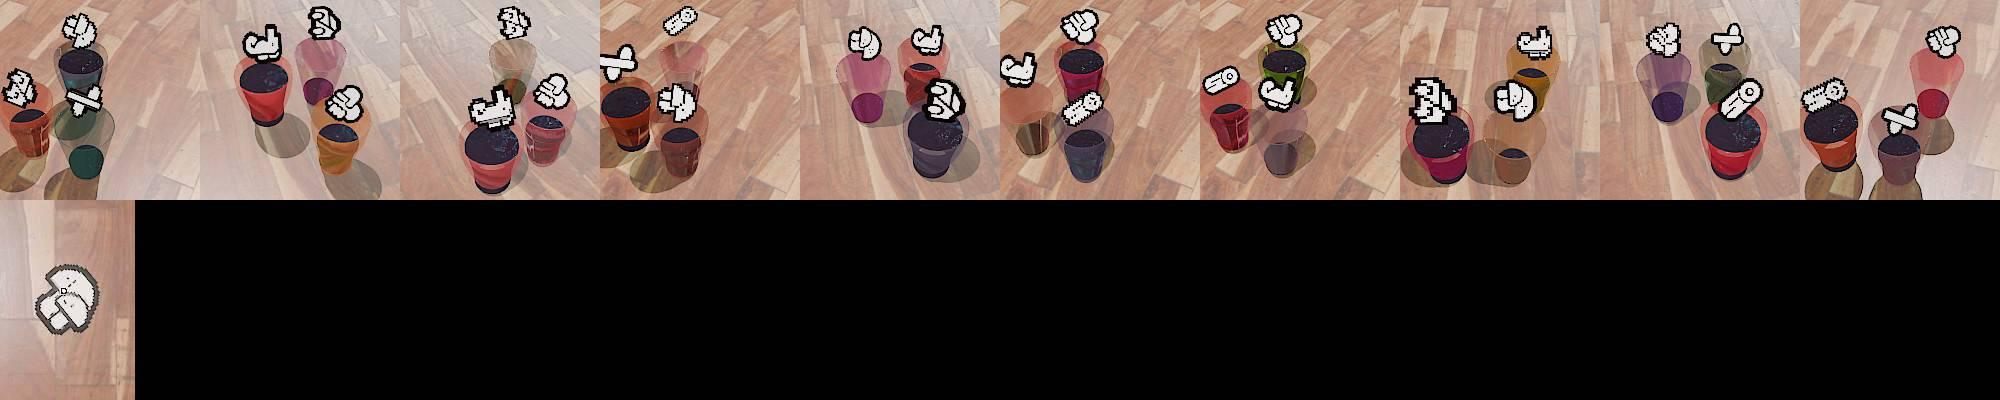icon: (34, 263, 101, 334), (1408, 74, 1457, 124), (467, 85, 517, 129), (1717, 76, 1763, 120), (1800, 76, 1848, 113), (925, 77, 966, 120), (1493, 80, 1536, 121), (599, 42, 641, 83), (657, 83, 700, 123), (1061, 88, 1103, 126), (324, 83, 364, 122), (243, 22, 283, 61), (1258, 75, 1299, 112), (1060, 8, 1100, 45), (533, 72, 571, 110), (61, 12, 98, 51), (1000, 49, 1037, 88), (1265, 14, 1303, 50), (3, 68, 38, 107), (1881, 100, 1920, 135), (1516, 25, 1554, 60), (305, 5, 341, 40), (1647, 21, 1681, 58), (496, 5, 532, 39), (662, 5, 700, 37), (910, 22, 945, 56), (67, 83, 103, 116), (1202, 65, 1239, 97), (1711, 21, 1745, 55), (1926, 25, 1961, 58), (848, 25, 881, 60)
